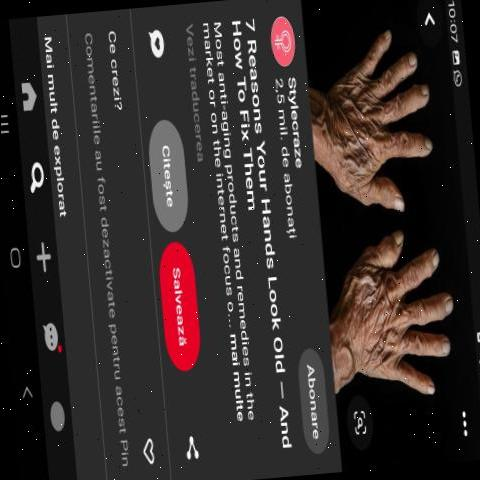Hands: (332, 212, 454, 480), (314, 12, 444, 228)
